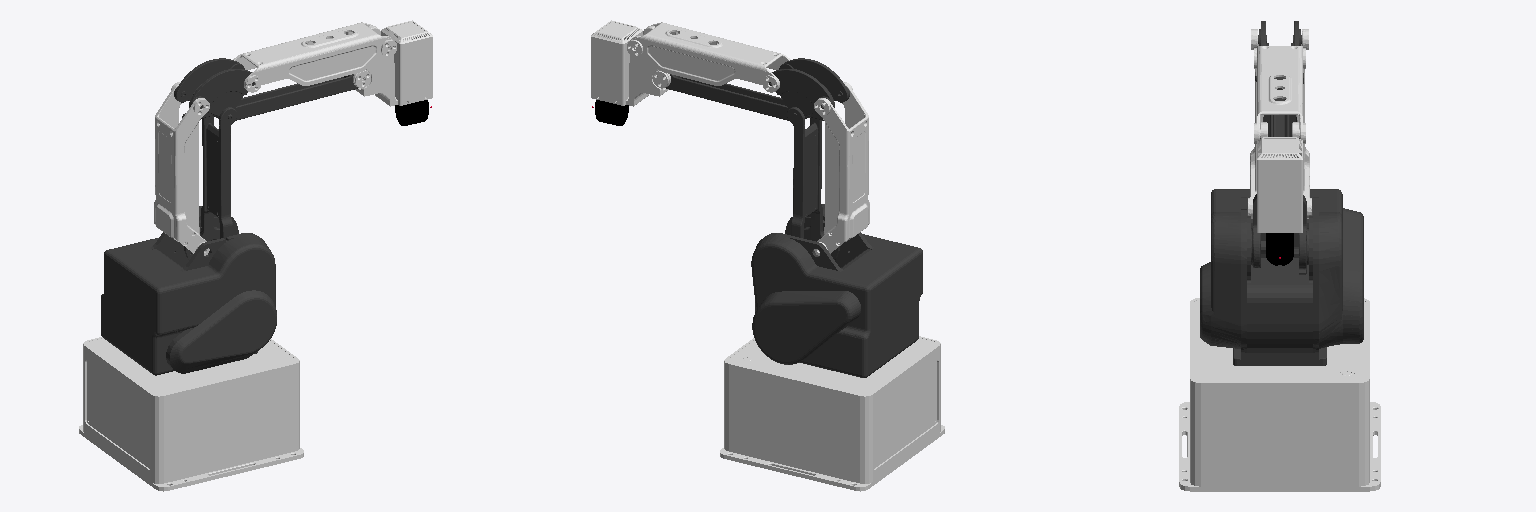
robot.urdf — mg400:
<?xml version="1.0" encoding="utf-8"?>
<!-- This URDF was automatically created by SolidWorks to URDF Exporter! Originally created by [author] ([email redacted]) 
     Commit Version: 1.6.0-1-g15f4949  Build Version: 1.6.7594.29634
     For more information, please see http://wiki.ros.org/sw_urdf_exporter -->
<robot name="mg400">
  <material name="TransparentRed">
    <color rgba="0.9 0 0.2 0.5"/>
  </material>
  <!-- Colors -->
  <material name="DarkGrey">
    <color rgba="0.3 0.3 0.3 1.0"/>
  </material>
  <material name="Grey">
    <color rgba="0.4 0.4 0.4 1.0"/>
  </material>
  <material name="Orange">
    <color rgba="1.0 0.423529411765 0.0392156862745 1.0"/>
  </material>
  <material name="Blue">
    <color rgba="0 0.1 1.0 1.0"/>
  </material>
  <material name="LightGrey">
    <color rgba="0.9 0.9 0.9 1.0"/>
  </material>
  <material name="Red">
    <color rgba="0.9 0 0.2 1.0"/>
  </material>
  <material name="TransparentRed">
    <color rgba="0.9 0 0.2 0.5"/>
  </material>
  <material name="Green">
    <color rgba="0 0.9 0.5 1.0"/>
  </material>
  <material name="Yellow">
    <color rgba="0.7 0.7 0 1.0"/>
  </material>
  <material name="LightBlue">
    <color rgba="0. 0.3 1.0 1.0"/>
  </material>
  <material name="Black">
    <color rgba="0.05 0.05 0.05 1.0"/>
  </material>
  <material name="White">
    <color rgba="1.0 1.0 1.0 1.0" />
  </material>

  
    <link name="base_link">
        <inertial>
            <origin xyz="0.000600637001378879 -2.53487071137343E-07 0.0560927888040551" rpy="0 0 0"/>
            <mass value="3.62164811695094"/>
            <inertia
                    ixx="0.0126582175296405"
                    ixy="6.66832041405407E-08"
                    ixz="-3.52548281362717E-06"
                    iyy="0.0145891535260188"
                    iyz="5.15901657460475E-08"
                    izz="0.0195045116656827"/>
        </inertial>
        <visual>
            <origin xyz="0 0 0" rpy="0 0 0"/>
            <geometry>
                <mesh filename="package://mg400/meshes/base_link.STL"/>
            </geometry>
            <material name="LightGrey"/>

        </visual>
        <collision>
            <origin xyz="0 0 0" rpy="0 0 0"/>
            <geometry>
                <mesh filename="package://mg400/meshes/base_link.STL"/>
            </geometry>
        </collision>
    </link>

    <link name="link1">
        <inertial>
            <origin xyz="-0.0046209286967387 -6.88107982318643E-05 0.0709919358465827" rpy="0 0 0"/>
            <mass value="1.77056222753813"/>
            <inertia
                    ixx="0.00605885293080088"
                    ixy="0.000156081820035162"
                    ixz="-0.00021785654850453"
                    iyy="0.00579381982249127"
                    iyz="6.20876898015621E-05"
                    izz="0.00741058257251941"/>
        </inertial>
        <visual>
            <origin xyz="0 0 0" rpy="0 0 0"/>
            <geometry>
                <mesh filename="package://mg400/meshes/link1.STL"/>
            </geometry>
            <material name="DarkGrey"/>
        </visual>
        <collision>
            <origin xyz="0 0 0" rpy="0 0 0"/>
            <geometry>
                <mesh filename="package://mg400/meshes/link1.STL"/>
            </geometry>
        </collision>
    </link>

    <joint name="j1" type="revolute">
        <origin xyz="-0.00500000000000002 0 0.109" rpy="0 0 0"/>
        <parent link="base_link"/>
        <child link="link1"/>
        <axis xyz="0 0 1"/>
        <limit lower="-3.14" upper="3.14" effort="0" velocity="0"/>
    </joint>

    <link name="link2_1">
        <inertial>
            <origin xyz="-0.00321788524756698 0.0352926570826593 0.0596131328734945" rpy="0 0 0"/>
            <mass value="0.0866115884541459"/>
            <inertia
                    ixx="0.000338551627157209"
                    ixy="-2.78858228577314E-09"
                    ixz="1.05212346076681E-05"
                    iyy="0.000307789653713489"
                    iyz="-1.36109590152488E-06"
                    izz="3.89949940178023E-05"/>
        </inertial>
        <visual>
            <origin xyz="0 0 0" rpy="0 0 0"/>
            <geometry>
                <mesh filename="package://mg400/meshes/link2_1.STL"/>
            </geometry>
            <material name="DarkGrey"/>
        </visual>
        <collision>
            <origin xyz="0 0 0" rpy="0 0 0"/>
            <geometry>
                <mesh filename="package://mg400/meshes/link2_1.STL"/>
            </geometry>
        </collision>
    </link>

    <joint name="j2_1" type="revolute">
        <origin xyz="0.0435007595118091 -0.0357748756218899 0.118995682641123" rpy="0 0 0"/>
        <parent link="link1"/>
        <child link="link2_1"/>
        <axis xyz="0 1 0"/>
        <limit lower="-3.14" upper="3.14" effort="0" velocity="0"/>
    </joint>

    <link name="link3_1">
        <inertial>
            <origin xyz="0.0821679417596488 0.000113044685842874 -0.00333758753063973" rpy="0 0 0"/>
            <mass value="0.0375214831045061"/>
            <inertia
                    ixx="2.54761091812684E-06"
                    ixy="3.73102654491378E-07"
                    ixz="-2.02625705871199E-06"
                    iyy="0.000164234314177935"
                    iyz="-1.44731096825347E-08"
                    izz="0.000164331500854172"/>
        </inertial>
        <visual>
            <origin xyz="0 0 0" rpy="0 0 0"/>
            <geometry>
                <mesh filename="package://mg400/meshes/link3_1.STL"/>
            </geometry>
            <material name="DarkGrey"/>
        </visual>
        <collision>
            <origin xyz="0 0 0" rpy="0 0 0"/>
            <geometry>
                <mesh filename="package://mg400/meshes/link3_1.STL"/>
            </geometry>
        </collision>
    </link>

    <joint name="j3_1" type="revolute">
        <origin xyz="-0.0010512570171516 0.0357748756218898 0.175001164344716" rpy="0 0 0"/>
        <parent link="link2_1"/>
        <child link="link3_1"/>
        <axis xyz="0 1 0"/>
        <limit lower="-3.14" upper="3.14" effort="0" velocity="0"/>
    </joint>

    <link name="link4_1">
        <inertial>
            <origin xyz="0.0387878182928232 0.0170848333998282 -0.0024610990490942" rpy="0 0 0"/>
            <mass value="0.0628979533925801"/>
            <inertia
                    ixx="4.78483605712844E-05"
                    ixy="1.42081909356751E-07"
                    ixz="8.32917079044309E-06"
                    iyy="5.42362047732042E-05"
                    iyz="-2.90608446019989E-08"
                    izz="3.36120409842199E-05"/>
        </inertial>
        <visual>
            <origin xyz="0 0 0" rpy="0 0 0"/>
            <geometry>
                <mesh filename="package://mg400/meshes/link4_1.STL"/>
            </geometry>
            <material name="LightGrey"/>
        </visual>
        <collision>
            <origin xyz="0 0 0" rpy="0 0 0"/>
            <geometry>
                <mesh filename="package://mg400/meshes/link4_1.STL"/>
            </geometry>
        </collision>
    </link>

    <joint name="j4_1" type="revolute">
        <origin xyz="0.174969784055705 -0.0170000000000335 0.00325187137614585" rpy="0 0 0"/>
        <parent link="link3_1"/>
        <child link="link4_1"/>
        <axis xyz="0 1 0"/>
        <limit lower="-3.14" upper="3.14" effort="0" velocity="0"/>
    </joint>

    <link name="link5">
        <inertial>
            <origin xyz="4.24246458685662E-07 3.08507851181768E-14 -0.0349688816440933" rpy="0 0 0"/>
            <mass value="0.0965276919819365"/>
            <inertia
                    ixx="4.98589992160928E-05"
                    ixy="-1.534865545378E-12"
                    ixz="3.46424449605658E-10"
                    iyy="4.98589881725446E-05"
                    iyz="-5.64890953414983E-17"
                    izz="2.130463008359E-05"/>
        </inertial>
        <visual>
            <origin xyz="0 0 0" rpy="0 0 0"/>
            <geometry>
                <mesh filename="package://mg400/meshes/link5.STL"/>
            </geometry>
            <material name="LightGrey"/>
        </visual>
        <collision>
            <origin xyz="0 0 0" rpy="0 0 0"/>
            <geometry>
                <mesh filename="package://mg400/meshes/link5.STL"/>
            </geometry>
        </collision>
    </link>

    <joint name="j5" type="revolute">
        <origin xyz="0.0659996239003897 0.0170000000000371 0.031000800715573" rpy="0 0 0"/>
        <parent link="link4_1"/>
        <child link="link5"/>
        <axis xyz="-1.19408295462994E-05 0 0.999999999928708"/>
        <limit lower="-3.14" upper="3.14" effort="0" velocity="0"/>
    </joint>

    <link name="link2_2">
        <inertial>
            <origin xyz="-0.0201111131723385 0.0304999635268521 0.073632809340276" rpy="0 0 0"/>
            <mass value="0.0662546292985346"/>
            <inertia
                    ixx="0.000218973873589181"
                    ixy="3.0147933007673E-10"
                    ixz="2.51402553227571E-06"
                    iyy="0.000200510070261609"
                    iyz="-1.41837669904595E-09"
                    izz="3.74316777806776E-05"/>
        </inertial>
        <visual>
            <origin xyz="0 0 0" rpy="0 0 0"/>
            <geometry>
                <mesh filename="package://mg400/meshes/link2_2.STL"/>
            </geometry>
            <material name="LightGrey"/>
        </visual>
        <collision>
            <origin xyz="0 0 0" rpy="0 0 0"/>
            <geometry>
                <mesh filename="package://mg400/meshes/link2_2.STL"/>
            </geometry>
        </collision>
    </link>

    <joint name="j2_2" type="revolute">
        <origin xyz="0.00452885682964267 -0.0305 0.141500000000001" rpy="0 0 0"/>
        <parent link="link1"/>
        <child link="link2_2"/>
        <axis xyz="0 1 0"/>
        <limit lower="-3.14" upper="3.14" effort="0" velocity="0"/>
    </joint>

    <link name="link3_2">
        <inertial>
            <origin xyz="0.0338566736074436 0.0240208873857428 0.00452229895926692" rpy="0 0 0"/>
            <mass value="0.0366692789294813"/>
            <inertia
                    ixx="7.24011830695354E-06"
                    ixy="7.93542746250724E-10"
                    ixz="-1.69163254472566E-06"
                    iyy="2.34967008246727E-05"
                    iyz="4.55507111386579E-10"
                    izz="1.66831643179488E-05"/>
        </inertial>
        <visual>
            <origin xyz="0 0 0" rpy="0 0 0"/>
            <geometry>
                <mesh filename="package://mg400/meshes/link3_2.STL"/>
            </geometry>
            <material name="DarkGrey"/>
        </visual>
        <collision>
            <origin xyz="0 0 0" rpy="0 0 0"/>
            <geometry>
                <mesh filename="package://mg400/meshes/link3_2.STL"/>
            </geometry>
        </collision>
    </link>

    <joint name="j3_2" type="revolute">
        <origin xyz="-0.00105049750546494 0.00649999999999986 0.174996846985851" rpy="0 0 0"/>
        <parent link="link2_2"/>
        <child link="link3_2"/>
        <axis xyz="0 1 0"/>
        <limit lower="-3.14" upper="3.14" effort="0" velocity="0"/>
    </joint>

    <link name="link4_2">
        <inertial>
            <origin xyz="0.0876391591012518 0.023499867452275 0.00831492252441945" rpy="0 0 0"/>
            <mass value="0.0453569016333092"/>
            <inertia
                    ixx="2.00037596001325E-05"
                    ixy="3.34474706250153E-09"
                    ixz="2.17594982354756E-07"
                    iyy="0.000132049841023893"
                    iyz="5.36978669669685E-10"
                    izz="0.000141813978894428"/>
        </inertial>
        <visual>
            <origin xyz="0 0 0" rpy="0 0 0"/>
            <geometry>
                <mesh filename="package://mg400/meshes/link4_2.STL"/>
            </geometry>
            <material name="LightGrey"/>
        </visual>
        <collision>
            <origin xyz="0 0 0" rpy="0 0 0"/>
            <geometry>
                <mesh filename="package://mg400/meshes/link4_2.STL"/>
            </geometry>
        </collision>
    </link>

    <joint name="j4_2" type="revolute">
        <origin xyz="0.0678965856063864 0.000500000000000073 0.0119719999403219" rpy="0 0 0"/>
        <parent link="link3_2"/>
        <child link="link4_2"/>
        <axis xyz="0 1 0"/>
        <limit lower="-3.14" upper="3.14" effort="0" velocity="0"/>
    </joint>

  <!--dummy joint-->
  <joint name="ee_joint" type="fixed">
    <parent link="link5"/>
    <child link="ee_link"/>
    <origin xyz="0 0 -0.065" rpy="0 0 0"/>
  </joint>

  <link name="ee_link">
    <visual>
      <origin rpy="0 0 0" xyz="0 0 0"/>
      <geometry>
        <sphere radius="0.005"/>
      </geometry>
        <material name="Red"/>
    </visual>
    <collision>
      <geometry>
        <sphere radius="0.001"/>
      </geometry>
      <origin rpy="0 0 0" xyz="0.0 0 0"/>
    </collision>
    <inertial>
      <mass value="0.0"/>
      <origin rpy="-3.14 0.0 1.57" xyz="0.0 0.0 0.0"/>
      <inertia ixx="0.001" ixy="0.0" ixz="0.0" iyy="0.001" iyz="0.0" izz="0.001"/>
    </inertial>
  </link>

        <!-- DigiTac -->
  <link
    name="digitac_body_link">
  <inertial>
      <origin
        xyz="0.0044483897843889 -0.0137570316187898 -1.33478473442024E-08+0.02"
        rpy="0 0 0" />
      <mass
        value="0.00791827593084163" />
      <inertia
        ixx="7.86145751817283E-07"
        ixy="-4.85149902505629E-09"
        ixz="4.89421524982813E-12"
        iyy="1.59818901807298E-06"
        iyz="-2.18755873901251E-12"
        izz="1.06961344577448E-06" />
    </inertial>
    <visual>
      <origin
        xyz="0 0 0.02"
        rpy="0 0 0" />
      <geometry>
        <mesh
          filename="../digitac/standard_digitac/digitac_asmb/meshes/digitac_body.STL" />
      </geometry>
      <material
        name="body_color">
        <color
          rgba="0.0 0.0 0.0 1" />
      </material>
    </visual>
    <collision>
      <origin
        xyz="0 0 0.02"
        rpy="0 0 0" />
      <geometry>
        <mesh
          filename="../digitac/standard_digitac/digitac_asmb/meshes/digitac_body.STL" />
      </geometry>
    </collision>
  </link>

    <joint name="digitac_ee_joint" type="fixed">
        <parent link="ee_link"/>
        <child link="digitac_body_link"/>
        <origin rpy="3.14 -1.57 0" xyz="0.0 0.0 -0.03"/>
    </joint>

      
  <link
    name="digitac_tip_link">


        <inertial>
      <origin
        xyz="1.95689617055233E-05 -0.00418318281817305 -0.00513072481258713-0.02"
        rpy="0 0 0" />
      <mass
        value="0.000211579321175967" />
      <inertia
        ixx="1.6421406108058E-08"
        ixy="-3.59682768116548E-11"
        ixz="8.26721658003392E-12"
        iyy="1.10821033019274E-08"
        iyz="-1.94916165896316E-10"
        izz="2.23470337659004E-08" />
    </inertial>
    <visual>
      <origin
        xyz="0 0 -0.02"
        rpy="0 0 0" />
      <geometry>
        <mesh
          filename="../digitac/standard_digitac/digitac_asmb_hollow/meshes/digitac_core.STL" />
      </geometry>
      <material
        name="digitac_skin">
        <color
          rgba="1.0 1.0 1.0 1" />
      </material>
    </visual>
    <collision>
      <origin
        xyz="0 0 -0.02"
        rpy="0 0 0" />
      <geometry>
        <mesh
          filename="../digitac/standard_digitac/digitac_asmb/meshes/digitac_core.STL" />
      </geometry>
    </collision>
  </link>




  <joint
    name="digitac_tip_to_body"
    type="fixed">
    <origin
      xyz="0 0 0"
      rpy="3.14159265358979 0 -1.5707963267949" />
    <parent
      link="digitac_body_link" />
    <child
      link="digitac_tip_link" />
    <axis
      xyz="0 0 0" />
  </joint>


      <!-- TCP -->
      <link name="tcp_link">
        <visual>
          <origin rpy="0 0 0" xyz="0 0 0"/>
          <geometry>
            <sphere radius="0.001"/>
          </geometry>
           <material name="TransparentRed"/>
        </visual>
        <inertial>
          <mass value="0.0"/>
          <origin rpy="0.0 0.0 1.57" xyz="0.0 0.0 0.0"/>
          <inertia ixx="1.0" ixy="0.0" ixz="0.0" iyy="1.0" iyz="0.0" izz="1.0"/>
        </inertial>
      </link>

      <joint name="tcp_joint" type="fixed">
        <parent link="digitac_body_link"/>
        <child link="tcp_link"/>
        <!-- y x z -->
        <origin rpy="1.57 0 -1.57" xyz="0.0007 0.0 0.031"/>
        <!-- <origin rpy="0 0 0" xyz="0.00145 0.0 0.025"/> -->
        <!-- <origin rpy="0 0 0" xyz="0.0018 0.0 0.025"/> -->
      </joint>


</robot>

--- What the picture shows (computed from the rendered views, not written in the file) ---
Views: 3 orthographic renders of the robot side by side, from view 1: azimuth 30°, elevation 25°; view 2: azimuth 150°, elevation 25°; view 3: azimuth 270°, elevation 25°.
Model mg400 with 13 links and 12 joints (8 revolute, 4 fixed), rooted at base_link, posed all joints at 0.
Links seen in each view (by area): view 1: base_link, link1, link2_2, link4_2, link4_1, link2_1, link3_2, link3_1, digitac_body_link; view 2: base_link, link1, link2_2, link4_2, link4_1, link2_1, link3_2, link3_1, digitac_body_link; view 3: base_link, link1, link4_1, link4_2, link2_2, link2_1, digitac_body_link.
Link boxes in pixels (x1,y1,x2,y2): base_link: (79,337,303,491); link1: (101,206,276,375); link2_2: (154,82,209,255); link4_2: (233,22,396,92); link4_1: (353,20,432,106); link2_1: (200,107,236,241); link3_2: (174,58,254,118); link3_1: (182,74,357,120); digitac_body_link: (395,100,428,125); base_link: (720,336,944,491); link1: (751,204,922,377); link2_2: (814,82,869,255); link4_2: (627,22,790,92); link4_1: (591,20,670,106); link2_1: (787,107,823,241); link3_2: (769,58,849,118); link3_1: (666,74,823,120); digitac_body_link: (595,100,628,125); base_link: (1179,298,1380,491); link1: (1200,189,1363,365); link4_1: (1257,122,1302,232); link4_2: (1254,46,1305,143); link2_2: (1248,29,1311,218); link2_1: (1251,73,1308,274); digitac_body_link: (1266,233,1293,265).
Bounding box of the posed robot: 0.4054 × 0.19 × 0.4597 m (x, y, z).
10 mesh visuals loaded from 11 distinct referenced files (10 binary STL); not drawn: 1 (reference not matched to a file when rendering).
